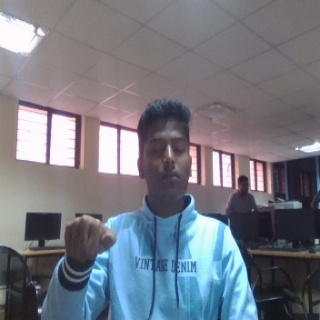Face: (132, 100, 196, 205)
Yes: (60, 214, 119, 273)
